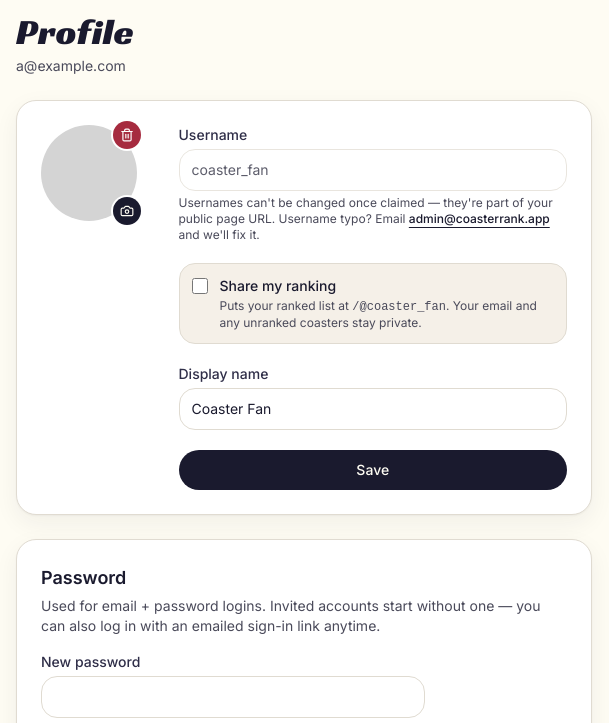
Test: ProfilePage › does not bundle sharing into the Save payload — the toggle saves itself
expect the field showing "coaster_fan" is shown: met, box [178,149,567,191]
Step 1. Click the checkbox labelled "Share my ranking" → point(200, 286), box [192,278,208,294]
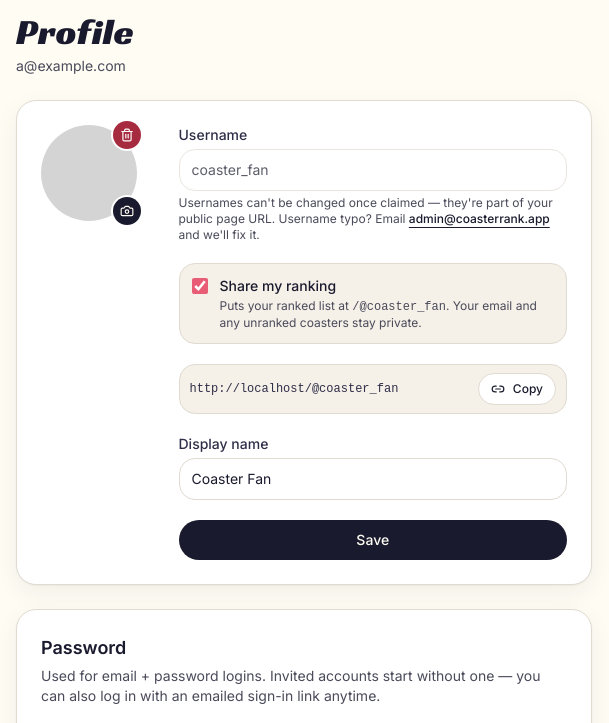
Step 2. Replace the text in the field showing "Coaster Fan" with "New Name" → point(373, 479), box [178,458,567,500]
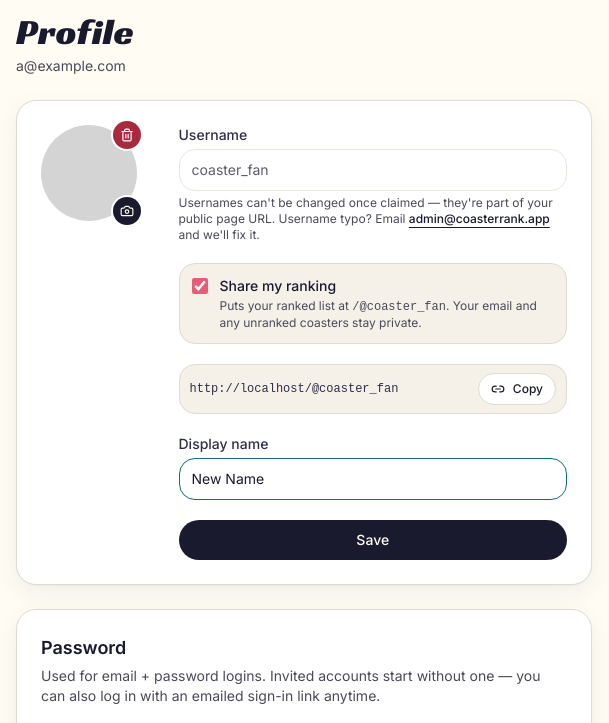
Step 3. Click the button "Save" → point(373, 540), box [178,520,567,560]
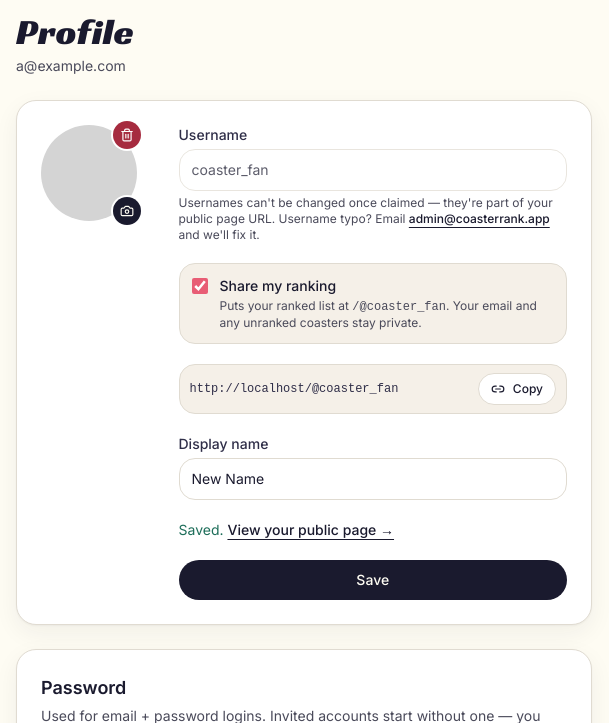
expect the text "Saved." is shown: met, box [178,521,224,538]
